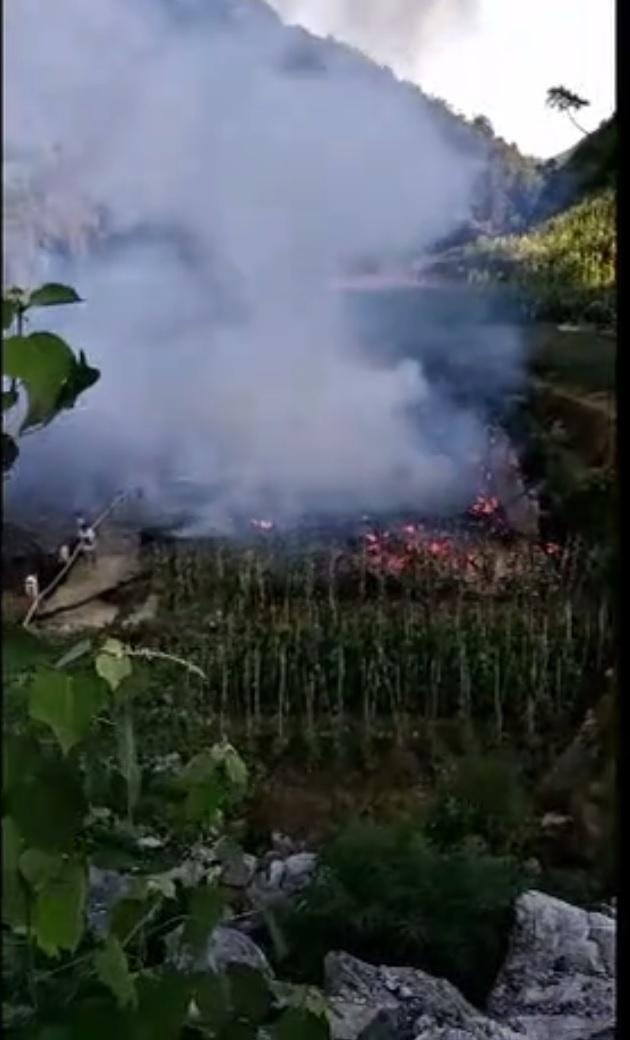fire: (356, 497, 499, 566)
